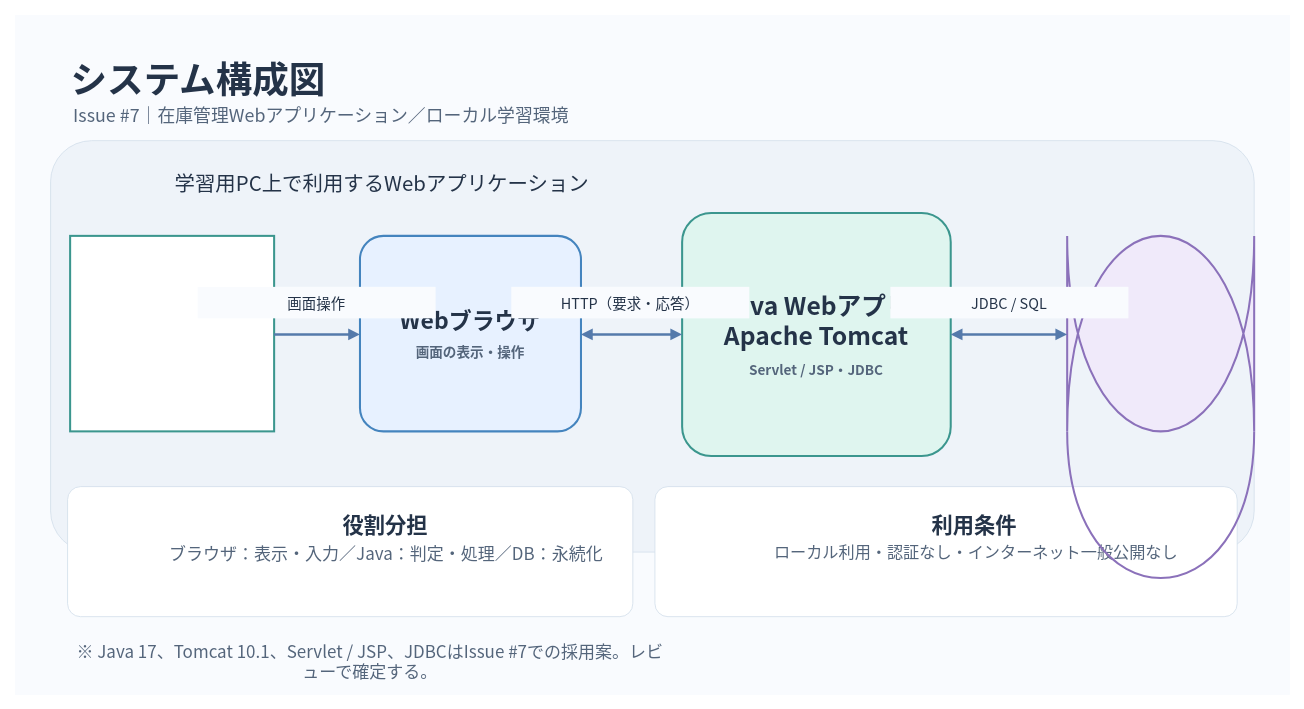
This 1304x709 diagram has some shape labels left out. Each missing label, with the box of its shape:
PostgreSQL 在庫情報を保存: (1066, 234, 1255, 432)
在庫管理担当者 アプリの利用者: (69, 234, 275, 432)
